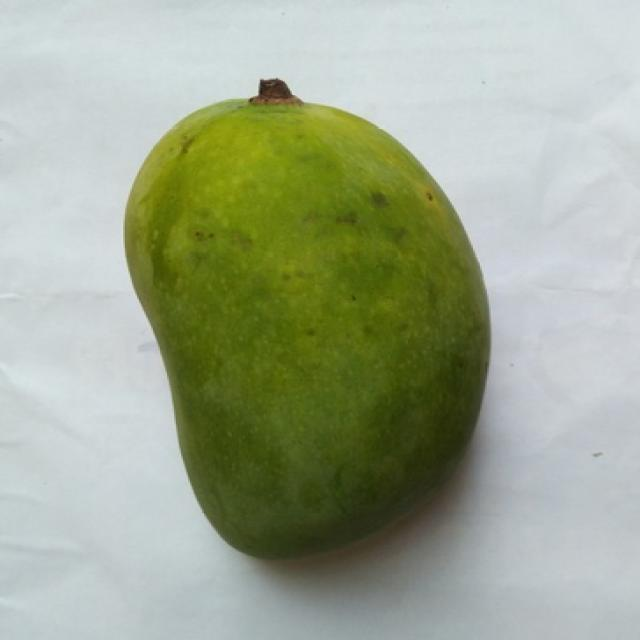Mango: (127, 88, 489, 556)
